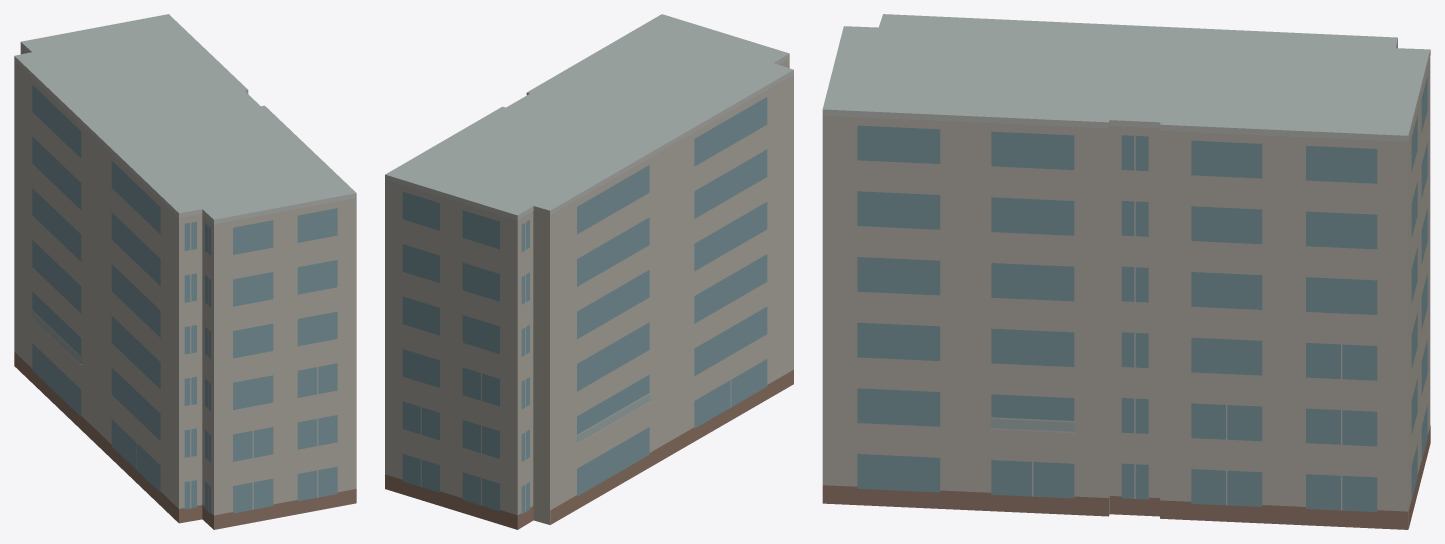
Rendered from survey-upis-32567391.glb.
3 renders of one model, left to right at view 1: azimuth 30°, elevation 25°; view 2: azimuth 150°, elevation 25°; view 3: azimuth 270°, elevation 25°, orthographic. The views are drawn at different scales.
Parts seen in each view (by area): view 1: survey-upis-32567391.tmp; view 2: survey-upis-32567391.tmp; view 3: survey-upis-32567391.tmp.
Part boxes in pixels (<box>): survey-upis-32567391.tmp: <box>14,14,356,529</box>; survey-upis-32567391.tmp: <box>385,14,793,529</box>; survey-upis-32567391.tmp: <box>822,14,1430,529</box>.
Size of the model in its own units: 10.72 by 16.15 by 22.59.
